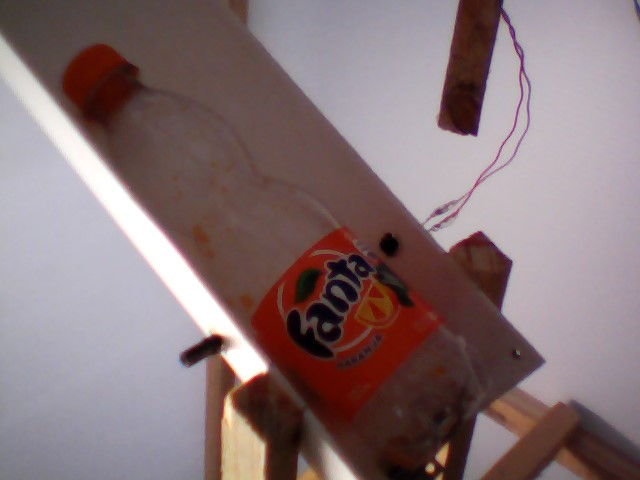plastico: (59, 40, 501, 480)
